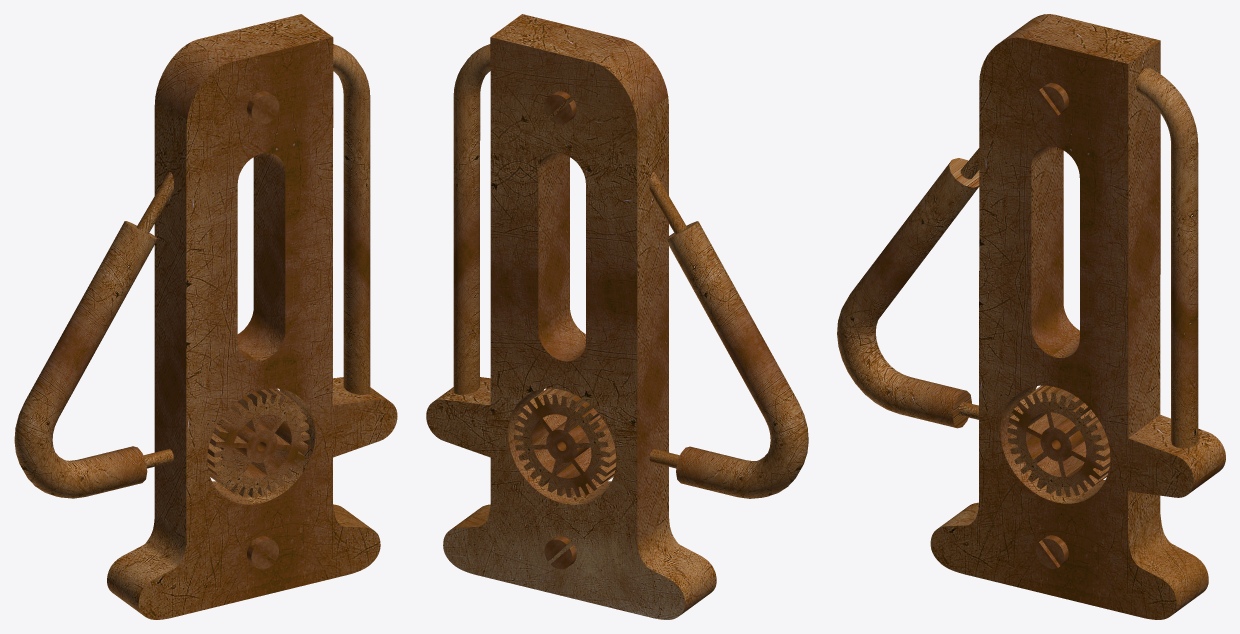
3 renders of one model, left to right at view 1: azimuth 30°, elevation 25°; view 2: azimuth 150°, elevation 25°; view 3: azimuth 330°, elevation 25°, orthographic.
Visible parts, largest first — view 1: 056, Tube_693, Tube_557, Cogwheel_438, Tube_547, Screw_673, Screw_687; view 2: 056, Tube_693, Tube_557, Cogwheel_438, Tube_547, Screw_673, Screw_687; view 3: 056, Tube_693, Tube_557, Cogwheel_438, Screw_687, Screw_673.
Part boxes in pixels (x1,y1,x2,y2): 056: (107,14,397,619); Tube_693: (14,221,157,498); Tube_557: (333,44,370,394); Cogwheel_438: (207,388,309,497); Tube_547: (136,171,173,233); Screw_673: (247,91,279,124); Screw_687: (247,536,278,569); 056: (426,14,716,619); Tube_693: (665,221,808,498); Tube_557: (453,44,490,394); Cogwheel_438: (514,388,616,497); Tube_547: (649,172,686,233); Screw_673: (544,91,576,124); Screw_687: (544,536,576,569); 056: (930,14,1225,619); Tube_693: (837,158,979,428); Tube_557: (1136,67,1198,448); Cogwheel_438: (1007,385,1110,496); Screw_687: (1036,535,1068,568); Screw_673: (1036,83,1068,116).
Bounding box in the file's own units: 66.35 × 94.17 × 12.89.
Materials: 1 (1 with a texture image).
